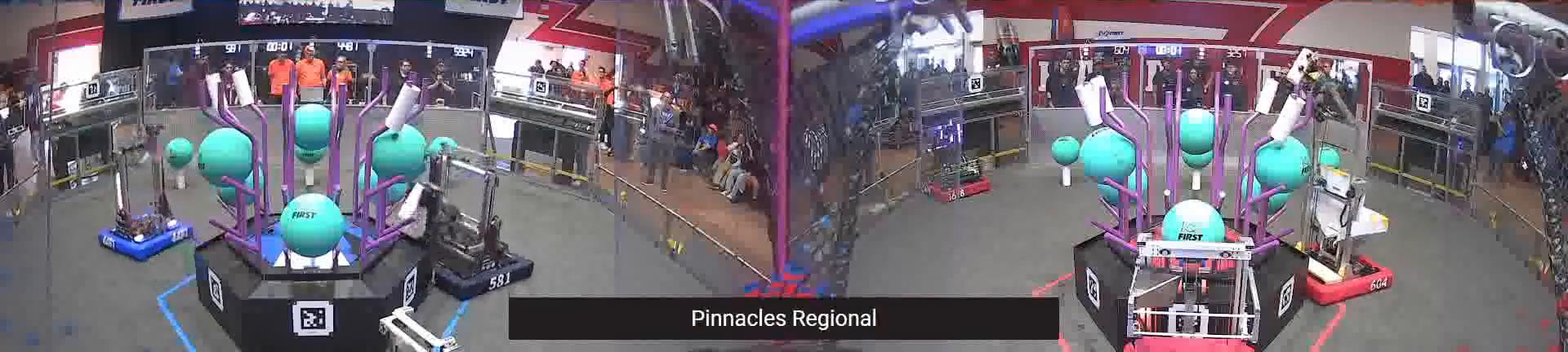reef: (197, 65, 436, 352), (1079, 65, 1311, 352)
robot: (1294, 74, 1396, 306), (1120, 234, 1265, 352), (425, 151, 535, 298), (93, 122, 195, 261), (380, 304, 463, 352), (921, 153, 994, 204)
